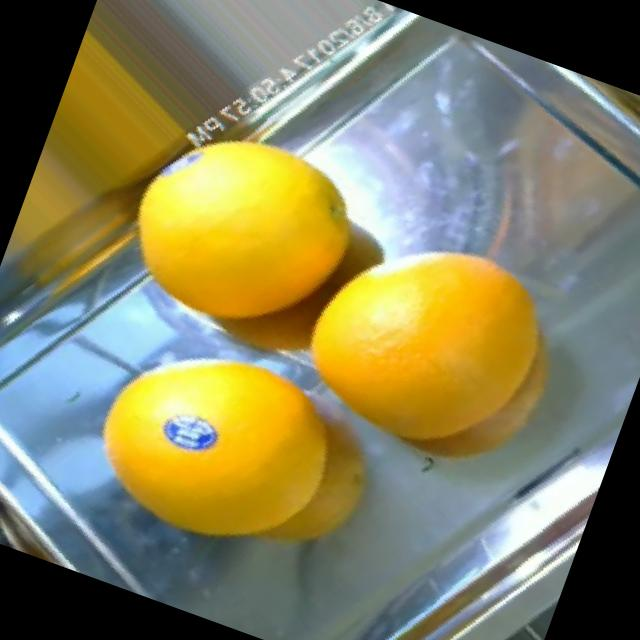Fruit: (344, 266, 591, 516)
